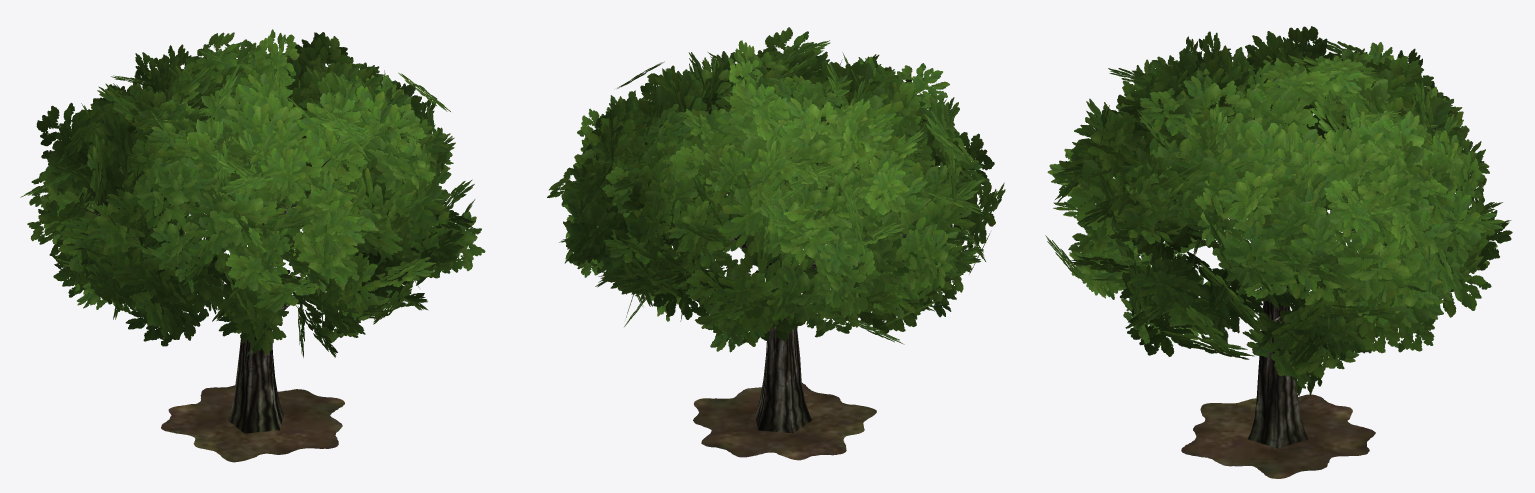
File: oak-medium-lite.glb
The picture shows the model from 3 angles, left to right: view 1: azimuth 30°, elevation 25°; view 2: azimuth 150°, elevation 25°; view 3: azimuth 270°, elevation 25°; orthographic projection. The views are drawn at different scales.
Visible parts, largest first — view 1: oak_medium_lite; view 2: oak_medium_lite; view 3: oak_medium_lite.
Boxes of the visible parts, left/top/right/bottom form: oak_medium_lite: left=20, top=29, right=485, bottom=462; oak_medium_lite: left=547, top=27, right=1005, bottom=460; oak_medium_lite: left=1045, top=26, right=1512, bottom=478.
Size of the model in its own units: 10.51 by 9.51 by 10.19.
1 material, 1 textured.
